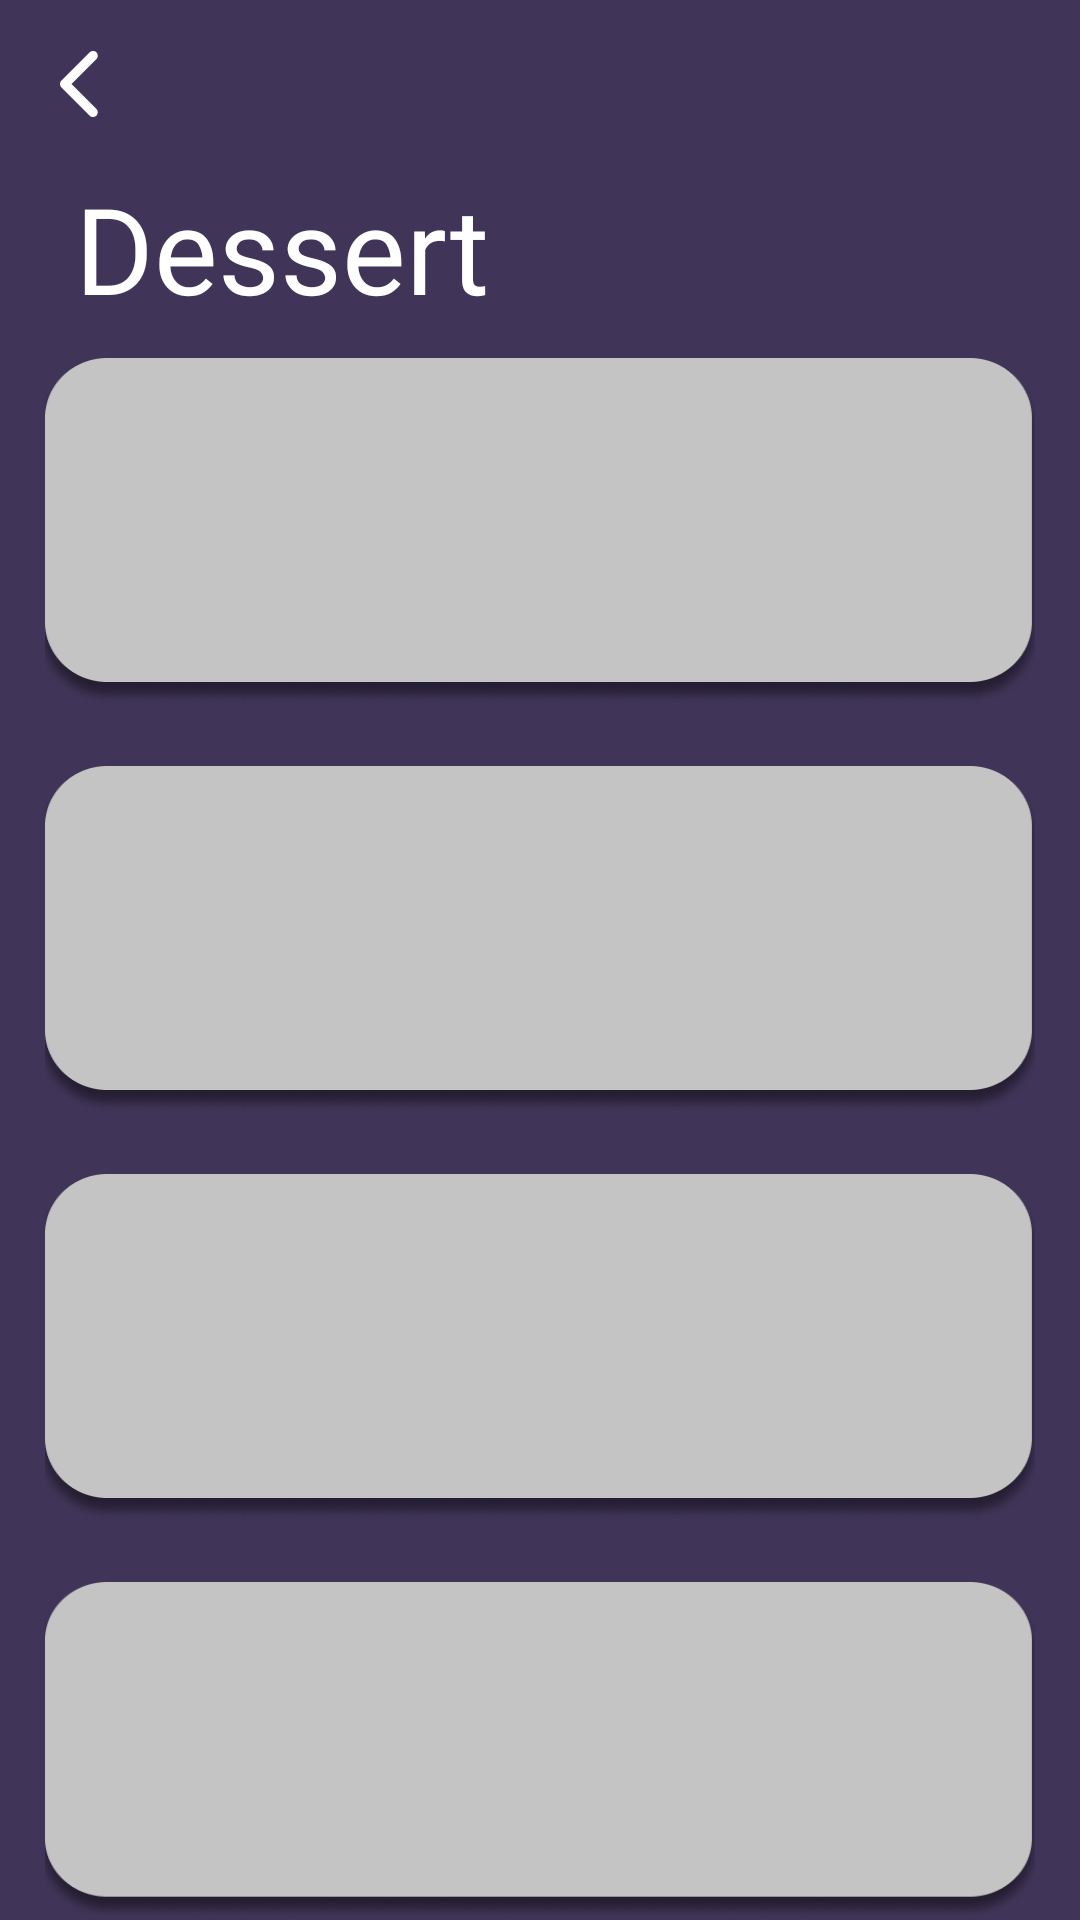

Where to tap for icons on this 1080 x 1920 app screen, as point (x, y):
back: point (79, 84)
